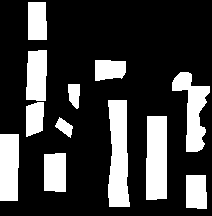parkingspot: (108, 100, 129, 206), (146, 116, 166, 199), (186, 86, 209, 151), (0, 134, 18, 200), (26, 50, 46, 100), (44, 153, 65, 191), (28, 2, 46, 39), (186, 175, 206, 208), (95, 60, 125, 80), (26, 102, 43, 136), (172, 72, 191, 90), (55, 117, 72, 137), (68, 84, 79, 108)
